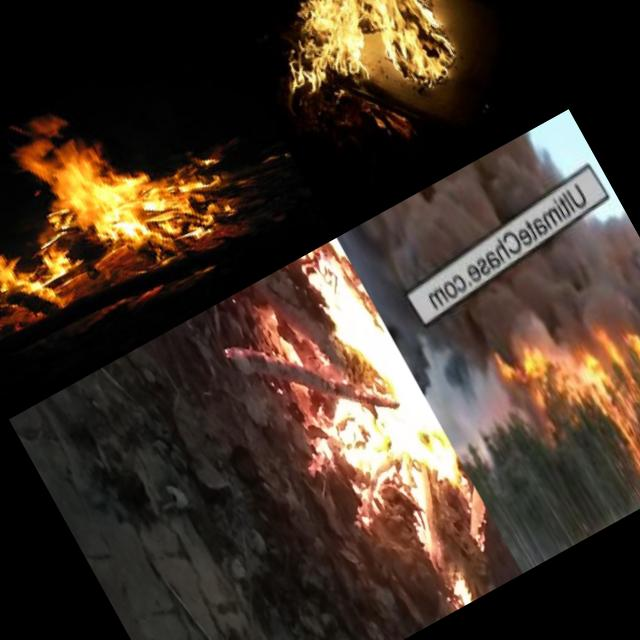fire: (241, 311, 523, 640), (0, 44, 248, 341), (486, 252, 640, 531), (236, 0, 478, 145)
smoke: (406, 322, 544, 477)
